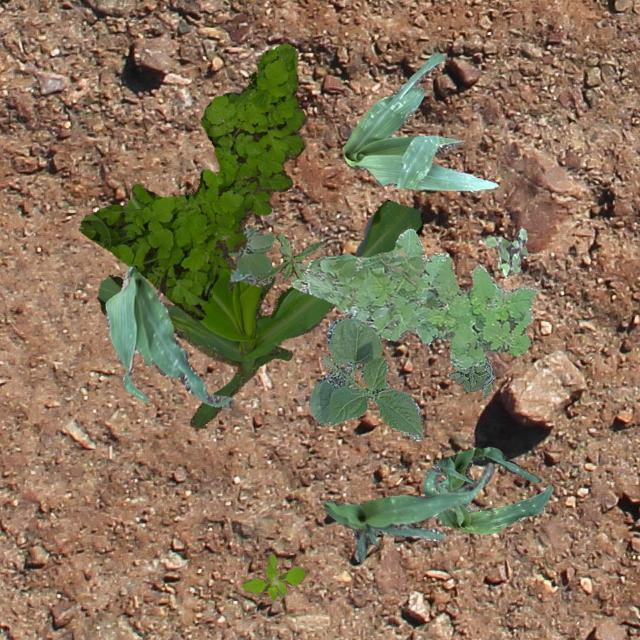crop: (96, 195, 422, 426), (342, 52, 496, 192), (105, 264, 232, 408), (322, 462, 493, 562), (308, 316, 422, 441), (422, 464, 552, 534), (436, 446, 540, 491)
weed: (77, 42, 306, 318), (290, 228, 536, 370), (256, 234, 324, 282), (240, 552, 304, 600), (228, 222, 274, 286), (482, 228, 526, 276), (448, 354, 493, 396)
